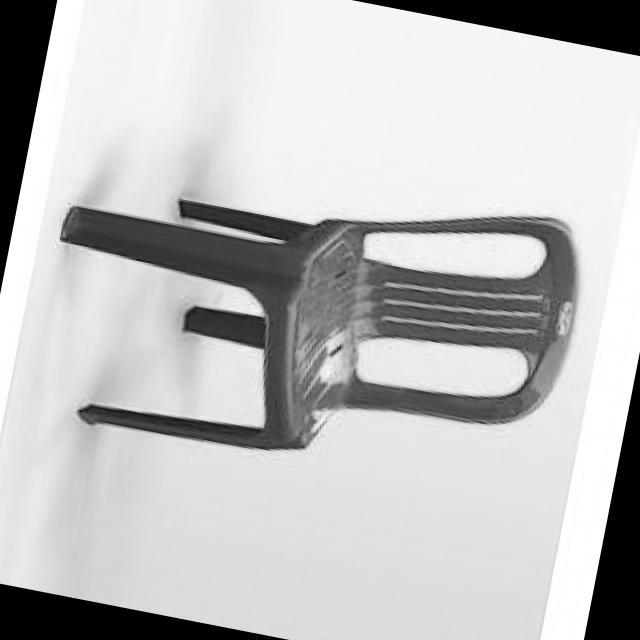chair: (17, 122, 600, 524)
